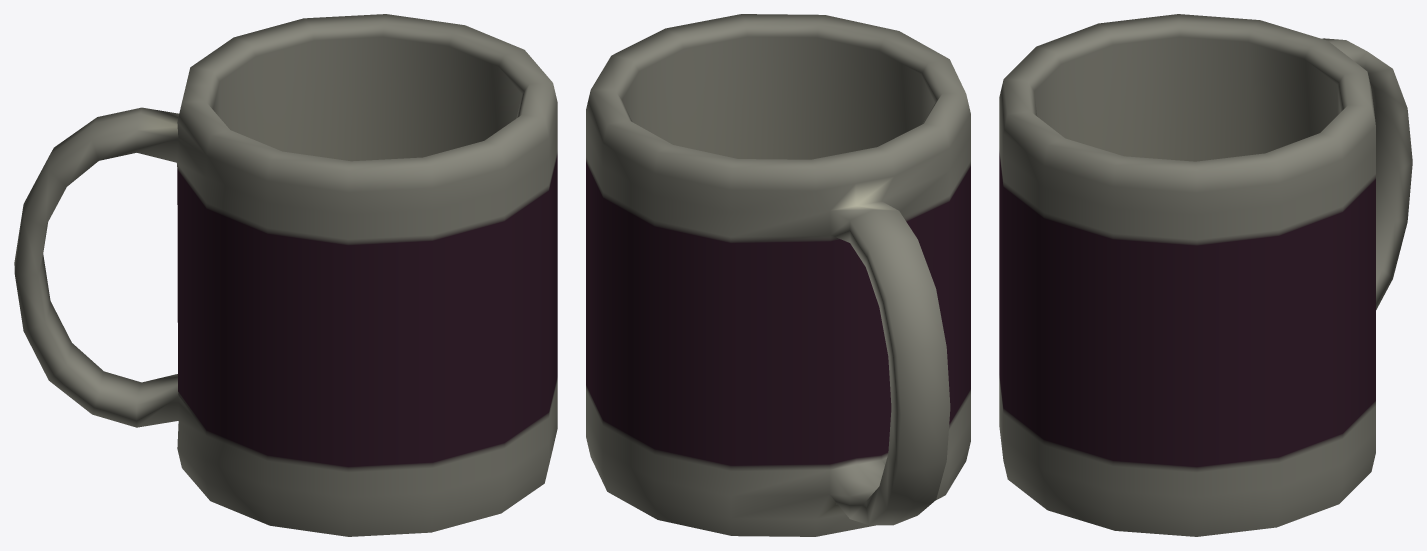
Rendered from emptyMug.fbx.
The picture shows the model from 3 angles, left to right: view 1: azimuth 30°, elevation 25°; view 2: azimuth 150°, elevation 25°; view 3: azimuth 270°, elevation 25°; orthographic projection.
Parts seen in each view (by area): view 1: mug03; view 2: mug03; view 3: mug03.
Boxes of the visible parts, left/top/right/bottom form: mug03: left=14, top=14, right=557, bottom=536; mug03: left=586, top=14, right=970, bottom=536; mug03: left=999, top=14, right=1412, bottom=536.
Bounding box in the file's own units: 191 × 156 × 160.
